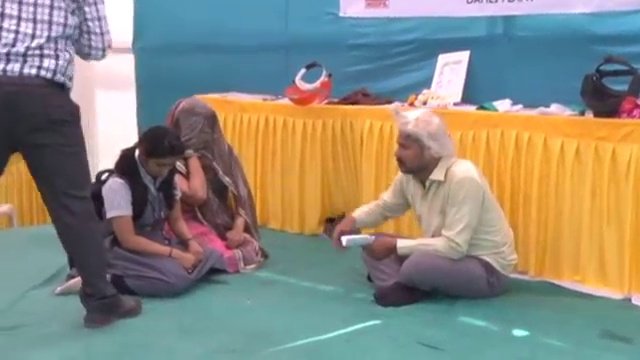helmet_off: (387, 108, 455, 181), (125, 126, 183, 188), (171, 99, 220, 159)
person: (0, 2, 145, 331), (337, 110, 532, 308), (54, 126, 217, 300), (171, 99, 262, 276)
